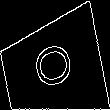O_W: (28, 41, 77, 95)
